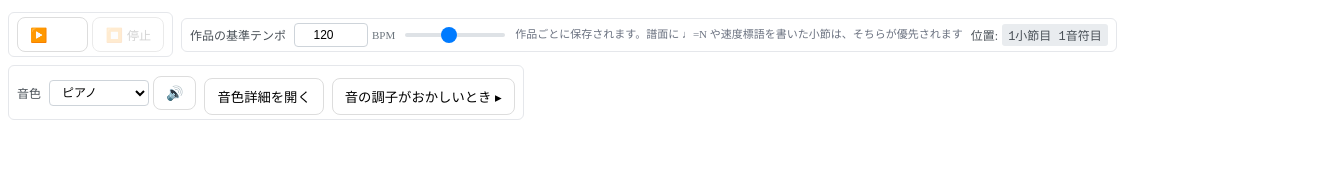
Test: PlaybackControls › テンポ制御 › 範囲を下回る値は下限へクランプされ、案内が表示される
Replace the text in the number field named "テンポ（BPM）" with "10": coordinates (331, 34) [294, 22, 368, 46]
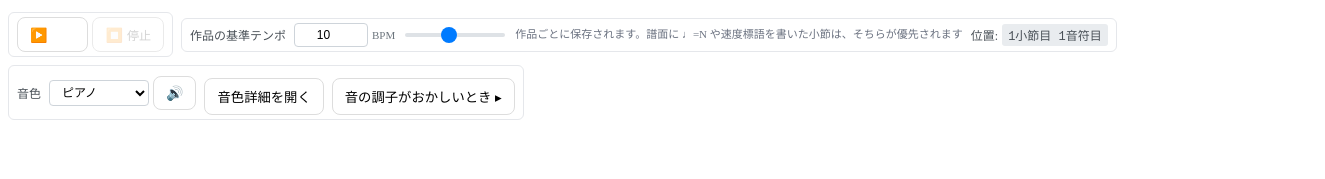
Leave the number field named "テンポ（BPM）", box [294, 22, 368, 46]
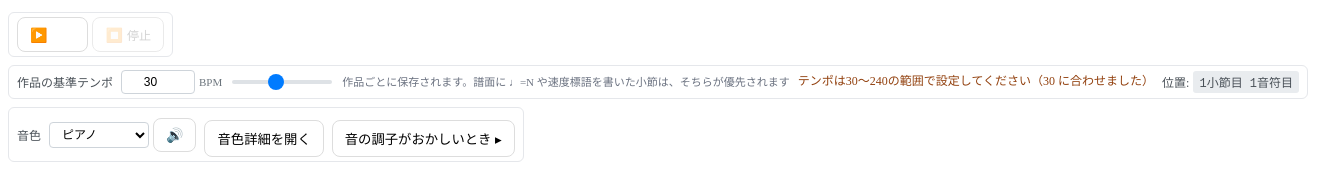
Check: the number field named "テンポ（BPM）" holds "30", box [121, 70, 195, 94]
Check: the message reads "テンポは30〜240の範囲で設定してください（30 に合わせました）", box [798, 74, 1154, 88]
